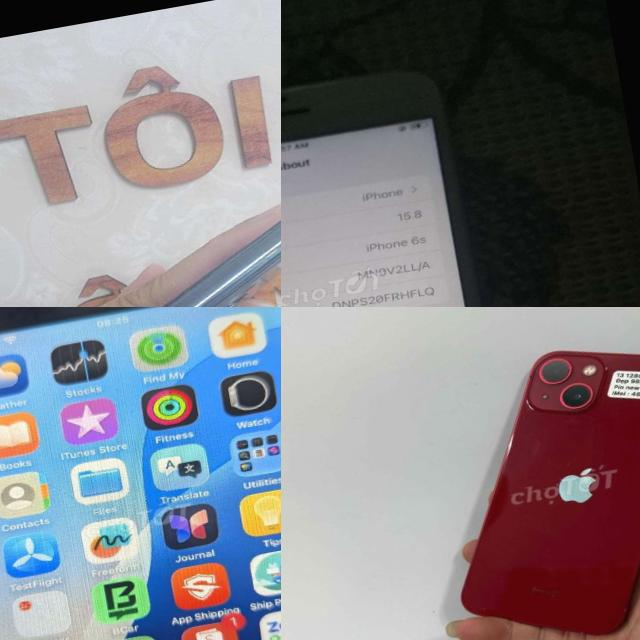gen_11: (89, 155, 281, 307)
gen_12_13: (416, 326, 640, 640)
gen_6: (281, 40, 559, 307)
gen_7_8: (0, 307, 281, 640)
